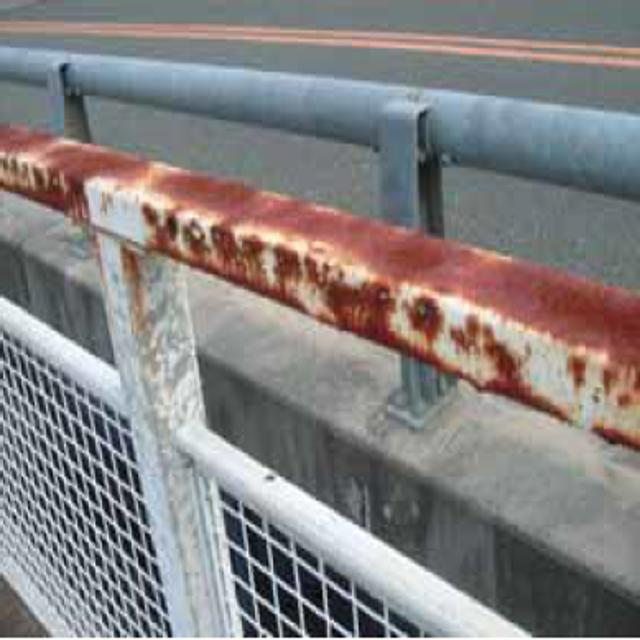corrosion: (3, 113, 640, 434)
